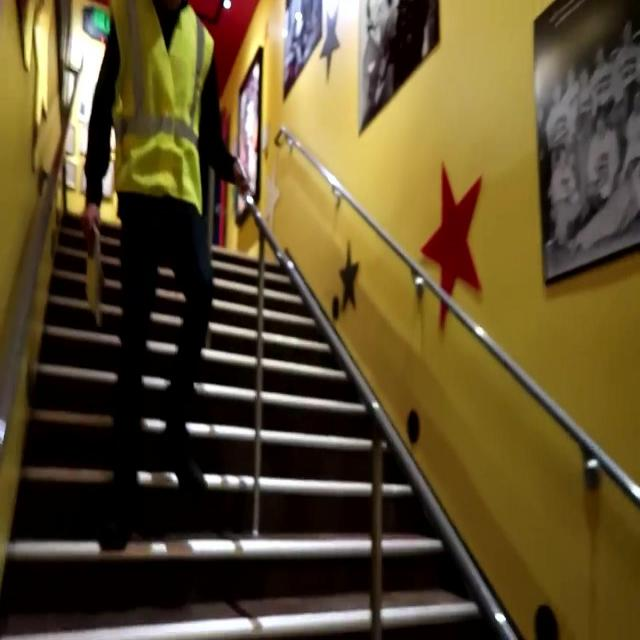Reflective-Jacket: (70, 5, 226, 235)
